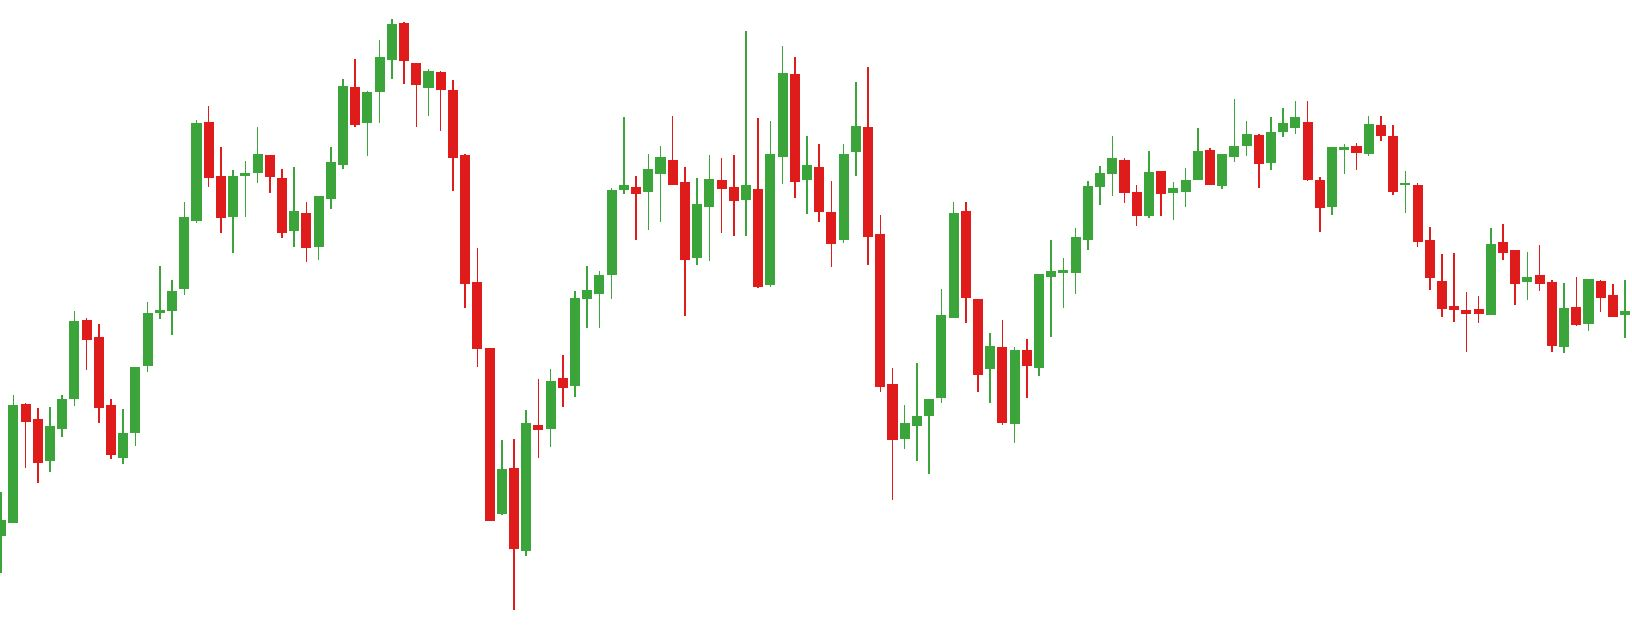sell: (669, 30, 753, 218), (1438, 223, 1509, 297)
